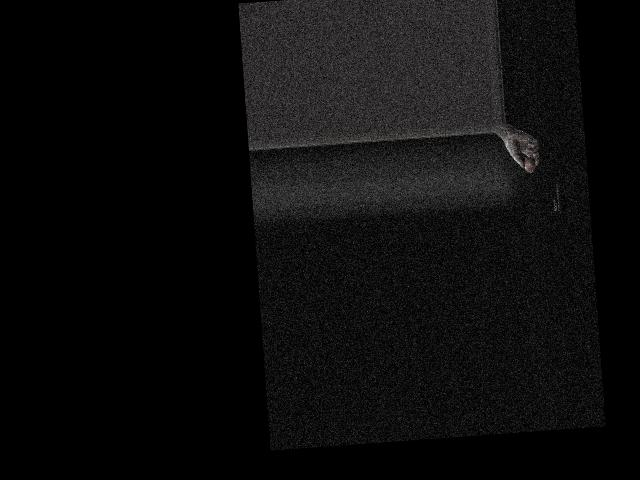egg: (523, 156, 535, 172)
